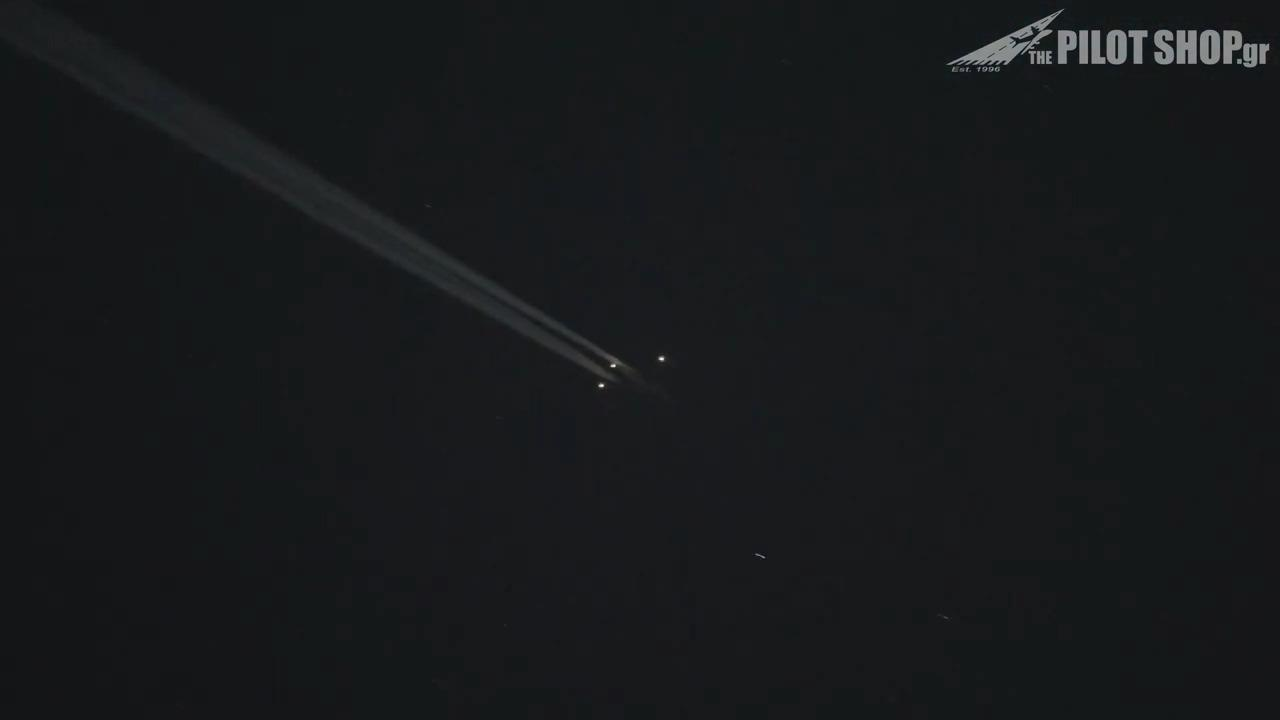Plane: (524, 331, 740, 417)
